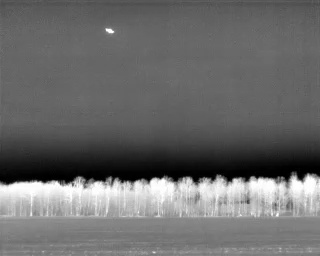DRONE: (101, 24, 118, 38)
